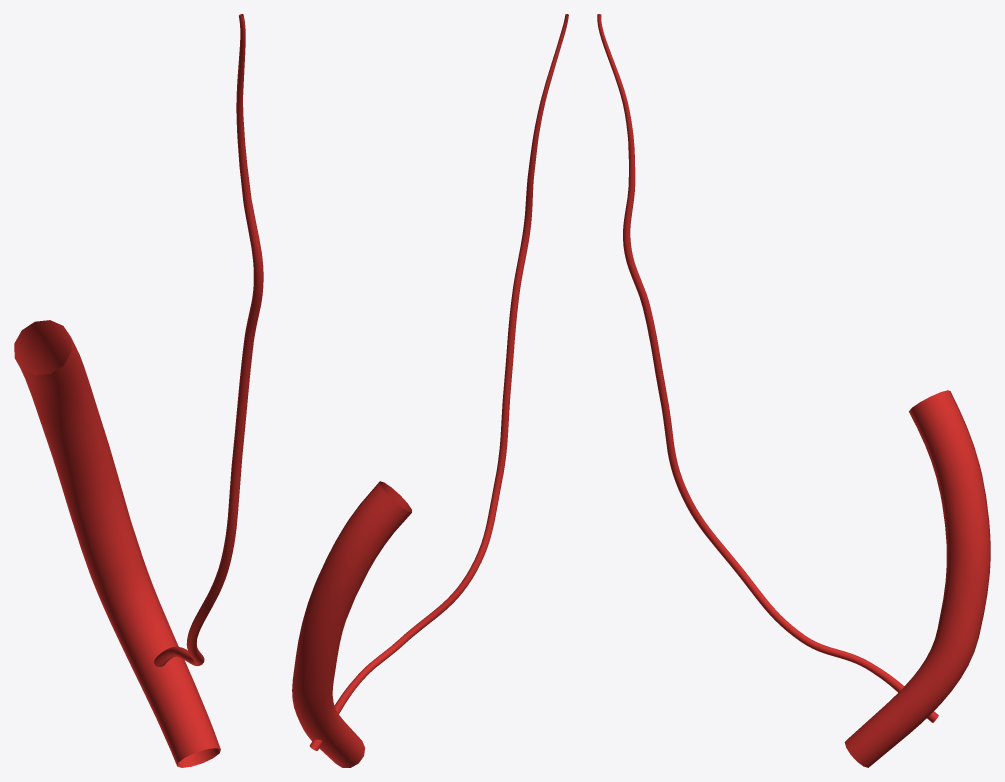
Rendered from circulatorio-external-iliac-artery-l.glb.
The picture shows the model from 3 angles, left to right: view 1: azimuth 30°, elevation 25°; view 2: azimuth 150°, elevation 25°; view 3: azimuth 270°, elevation 25°; orthographic projection. The views are drawn at different scales.
Visible parts, largest first — view 1: External iliac artery.l, Inferior epigastric artery.l; view 2: External iliac artery.l, Inferior epigastric artery.l; view 3: External iliac artery.l, Inferior epigastric artery.l.
Part boxes in pixels (x1,y1,x2,y2): External iliac artery.l: (14, 320, 220, 767); Inferior epigastric artery.l: (154, 14, 263, 666); External iliac artery.l: (292, 481, 411, 767); Inferior epigastric artery.l: (309, 14, 568, 750); External iliac artery.l: (844, 390, 990, 767); Inferior epigastric artery.l: (597, 14, 938, 722).
Size of the model in its own units: 0.0349 by 0.1992 by 0.1009.
